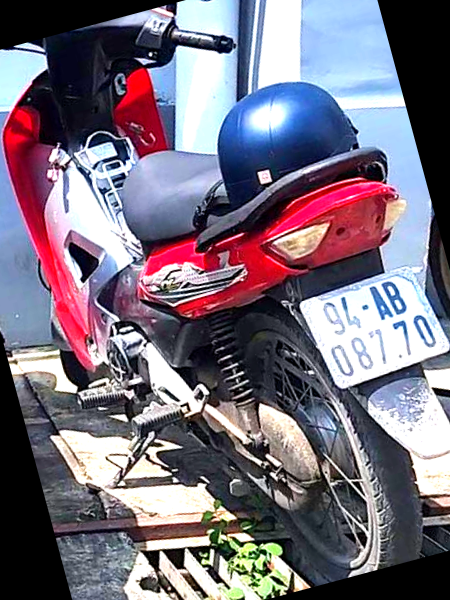number: (300, 270, 450, 389)
